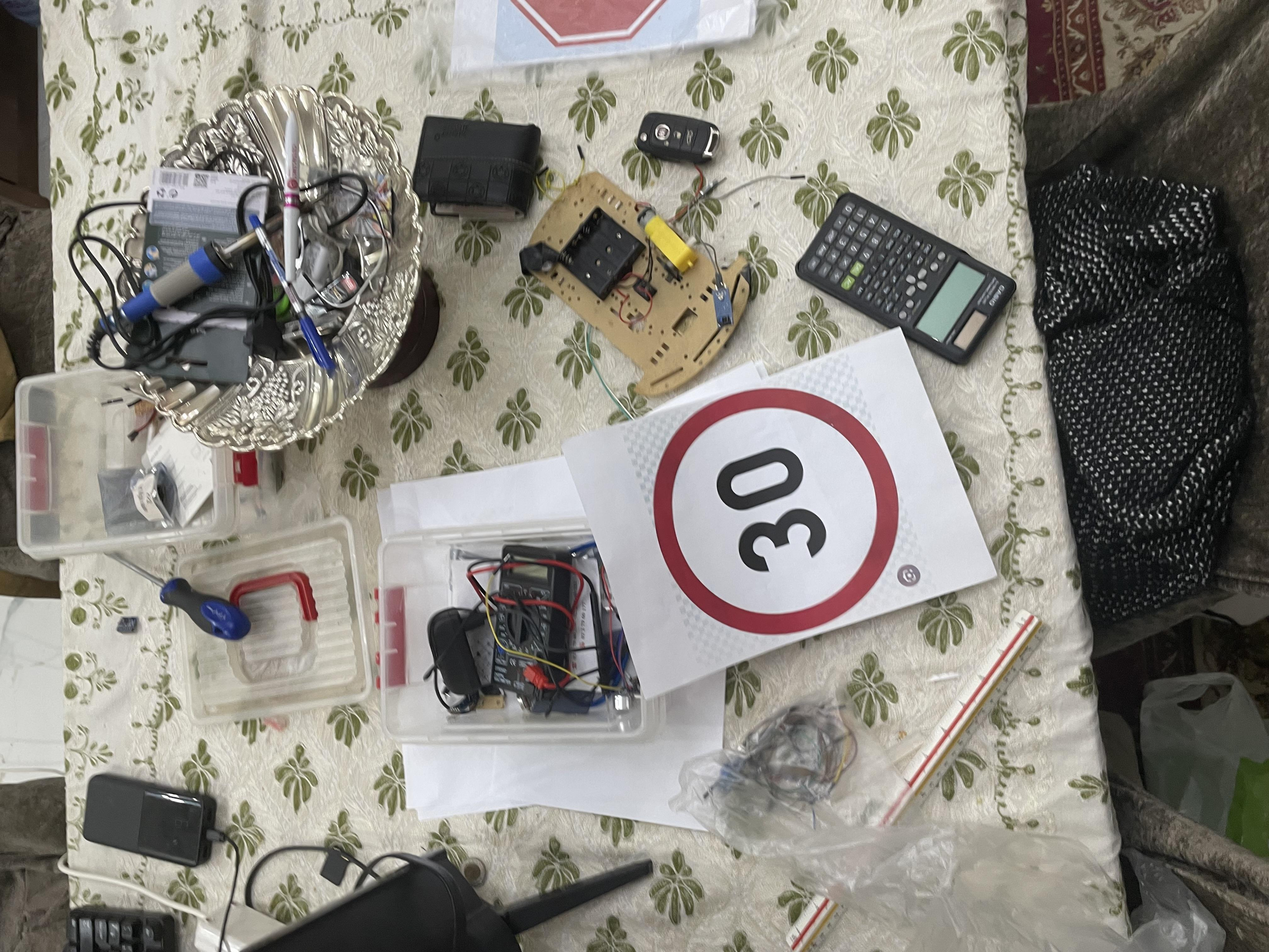30-speed: (420, 484, 774, 679)
